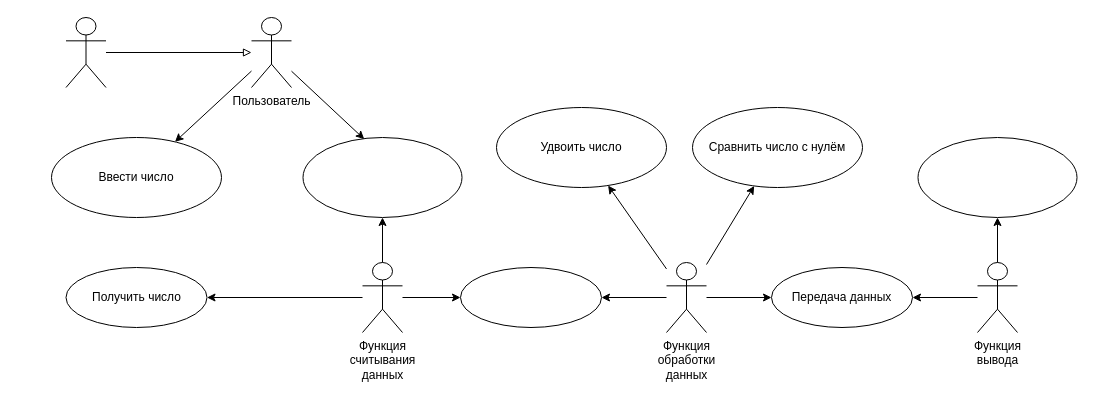
Image size: 1095x400. Some labels were removed from this diagram. The centre of each missing label's shape, as x and y in pixels:
"Вывести на экран результат" goes at point (997, 177).
"Передача числа" goes at point (531, 297).
"Подтверждение получения числа" goes at point (382, 177).
"Студент 2-го курса РХТУ" goes at point (85, 52).
